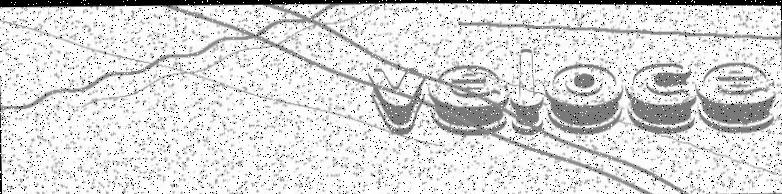c: (626, 62, 696, 134)
e: (428, 63, 511, 135), (697, 61, 777, 132)
l: (509, 47, 545, 132)
o: (545, 62, 624, 133)
v: (368, 67, 425, 134)
